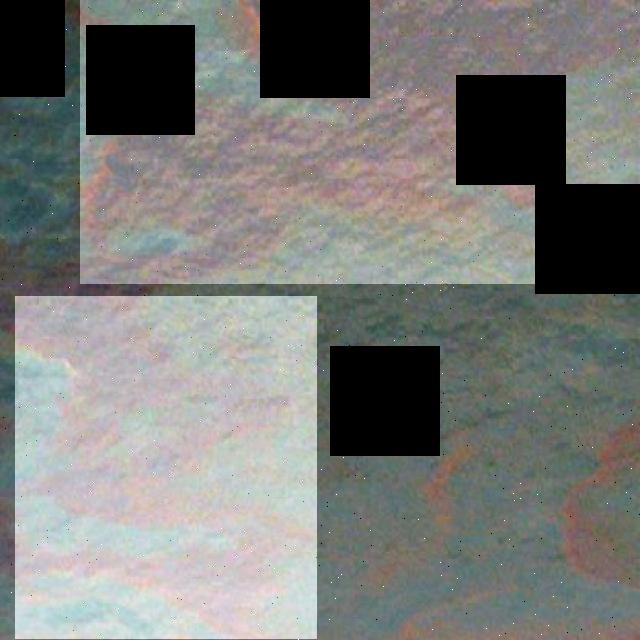oil spill: (80, 0, 640, 284), (16, 296, 317, 640)
